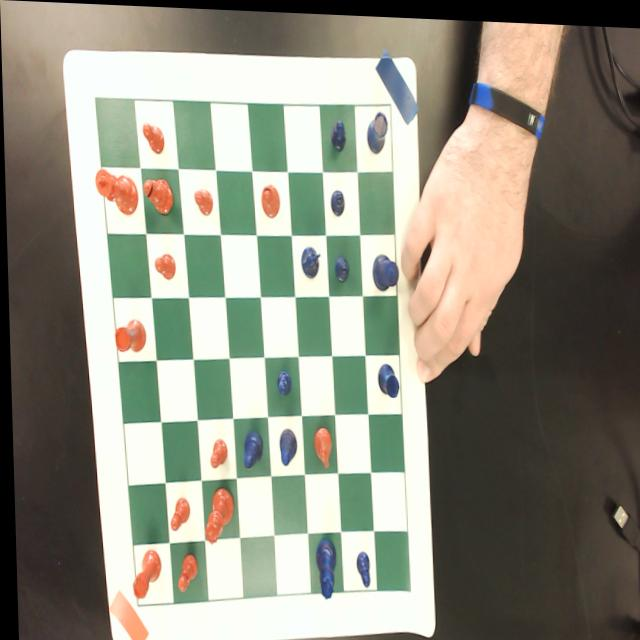B: (240, 427, 261, 467), (276, 424, 295, 465)
K: (371, 249, 398, 289)
N: (299, 242, 321, 278)
P: (353, 548, 368, 584), (329, 115, 345, 148), (274, 368, 290, 395), (333, 252, 348, 280), (329, 186, 344, 214)
Q: (312, 535, 334, 598)
R: (366, 107, 387, 152), (375, 360, 398, 396)
b: (142, 176, 173, 215), (260, 183, 279, 216)
k: (94, 167, 137, 215)
n: (311, 424, 330, 466)
p: (173, 550, 196, 591), (166, 496, 189, 531), (141, 120, 164, 155), (192, 184, 213, 216), (153, 252, 175, 280), (207, 436, 226, 468)
q: (201, 485, 232, 544)
r: (129, 548, 159, 601), (113, 318, 144, 353)
